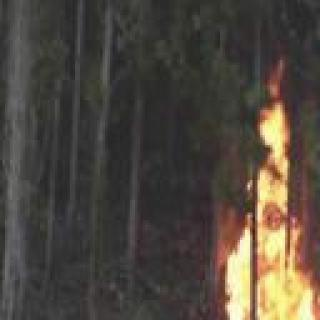fire: (163, 61, 320, 320)
